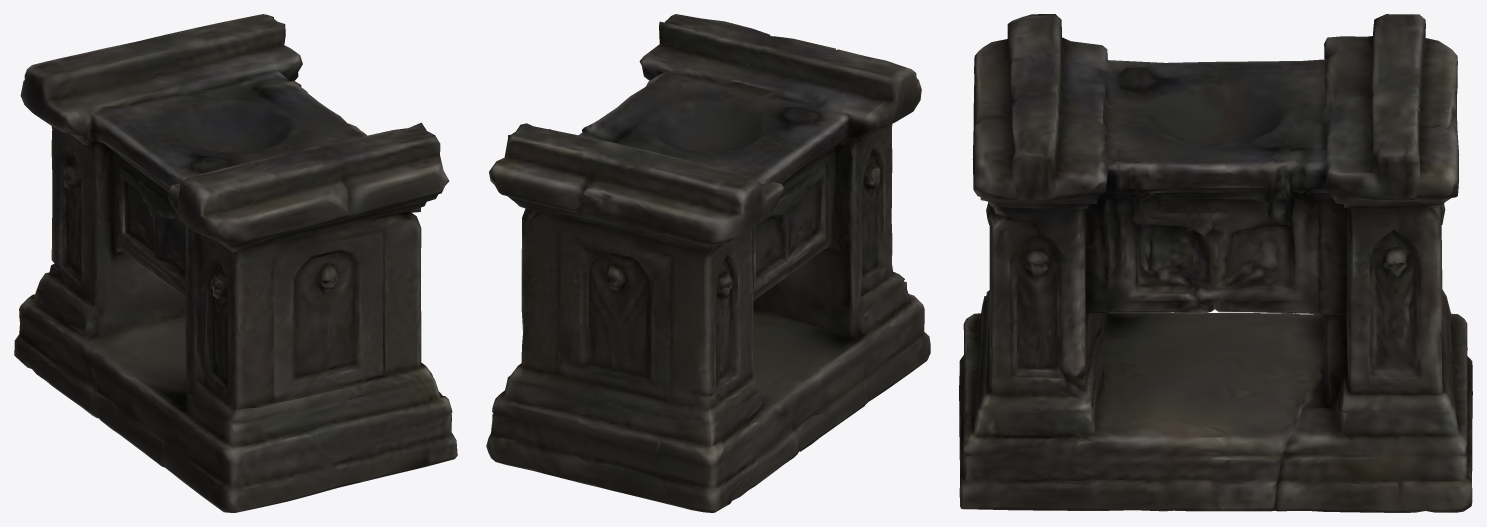
The model's file is ruined-altar.glb.
The picture shows the model from 3 angles, left to right: view 1: azimuth 30°, elevation 25°; view 2: azimuth 150°, elevation 25°; view 3: azimuth 270°, elevation 25°; orthographic projection. The views are drawn at different scales.
Visible parts, largest first — view 1: tripo_node_e565b36a-4cfd-4dca-bcc9-50b8152bda29; view 2: tripo_node_e565b36a-4cfd-4dca-bcc9-50b8152bda29; view 3: tripo_node_e565b36a-4cfd-4dca-bcc9-50b8152bda29.
Boxes of the visible parts, <box> form: tripo_node_e565b36a-4cfd-4dca-bcc9-50b8152bda29: <box>14,14,457,512</box>; tripo_node_e565b36a-4cfd-4dca-bcc9-50b8152bda29: <box>486,14,930,512</box>; tripo_node_e565b36a-4cfd-4dca-bcc9-50b8152bda29: <box>959,14,1472,512</box>.
Size of the model in its own units: 0.6465 by 0.7853 by 0.9999.
Materials: 1 (1 with a texture image).
